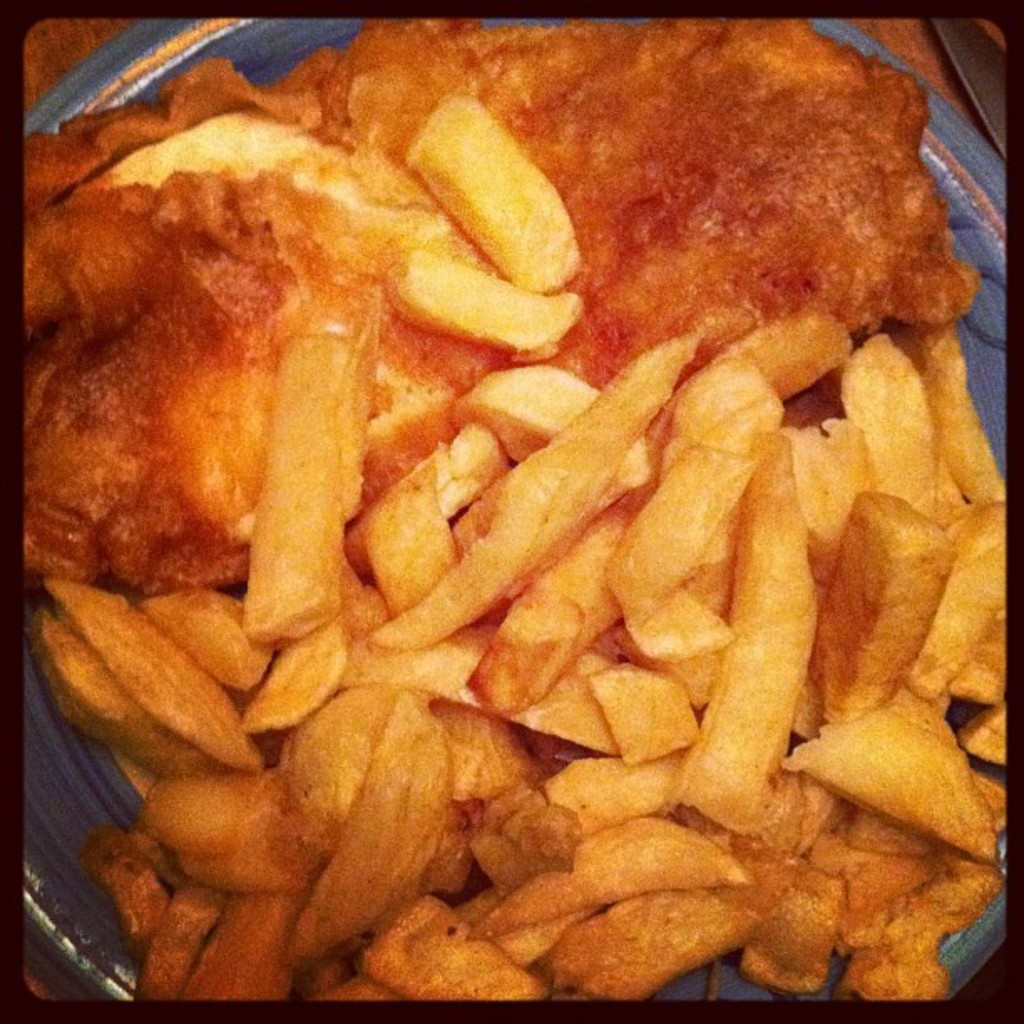French fries: (27, 90, 1006, 999)
